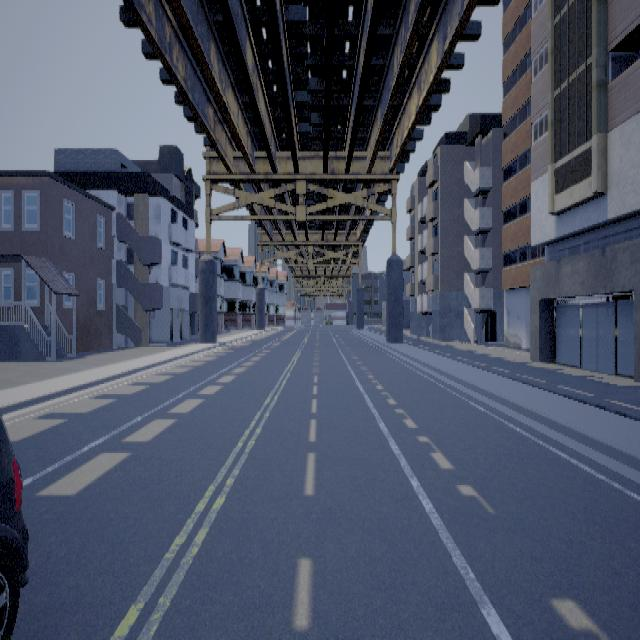vehicle: (0, 413, 29, 638)
